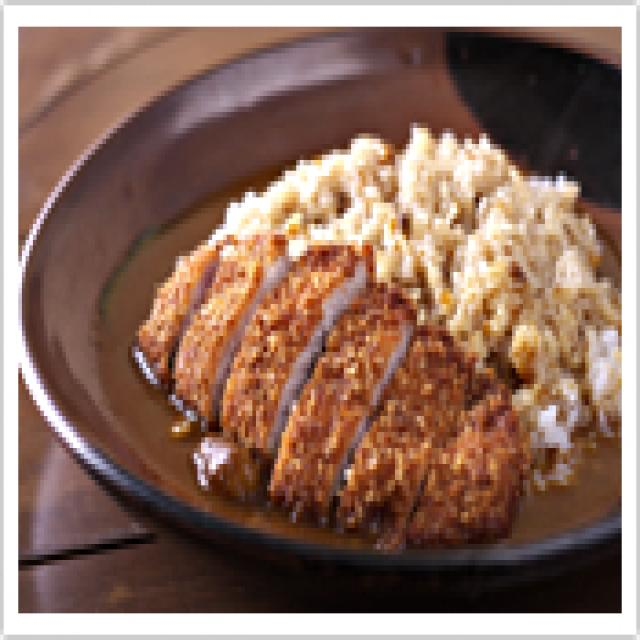猪肉菜式: (26, 32, 607, 576)
